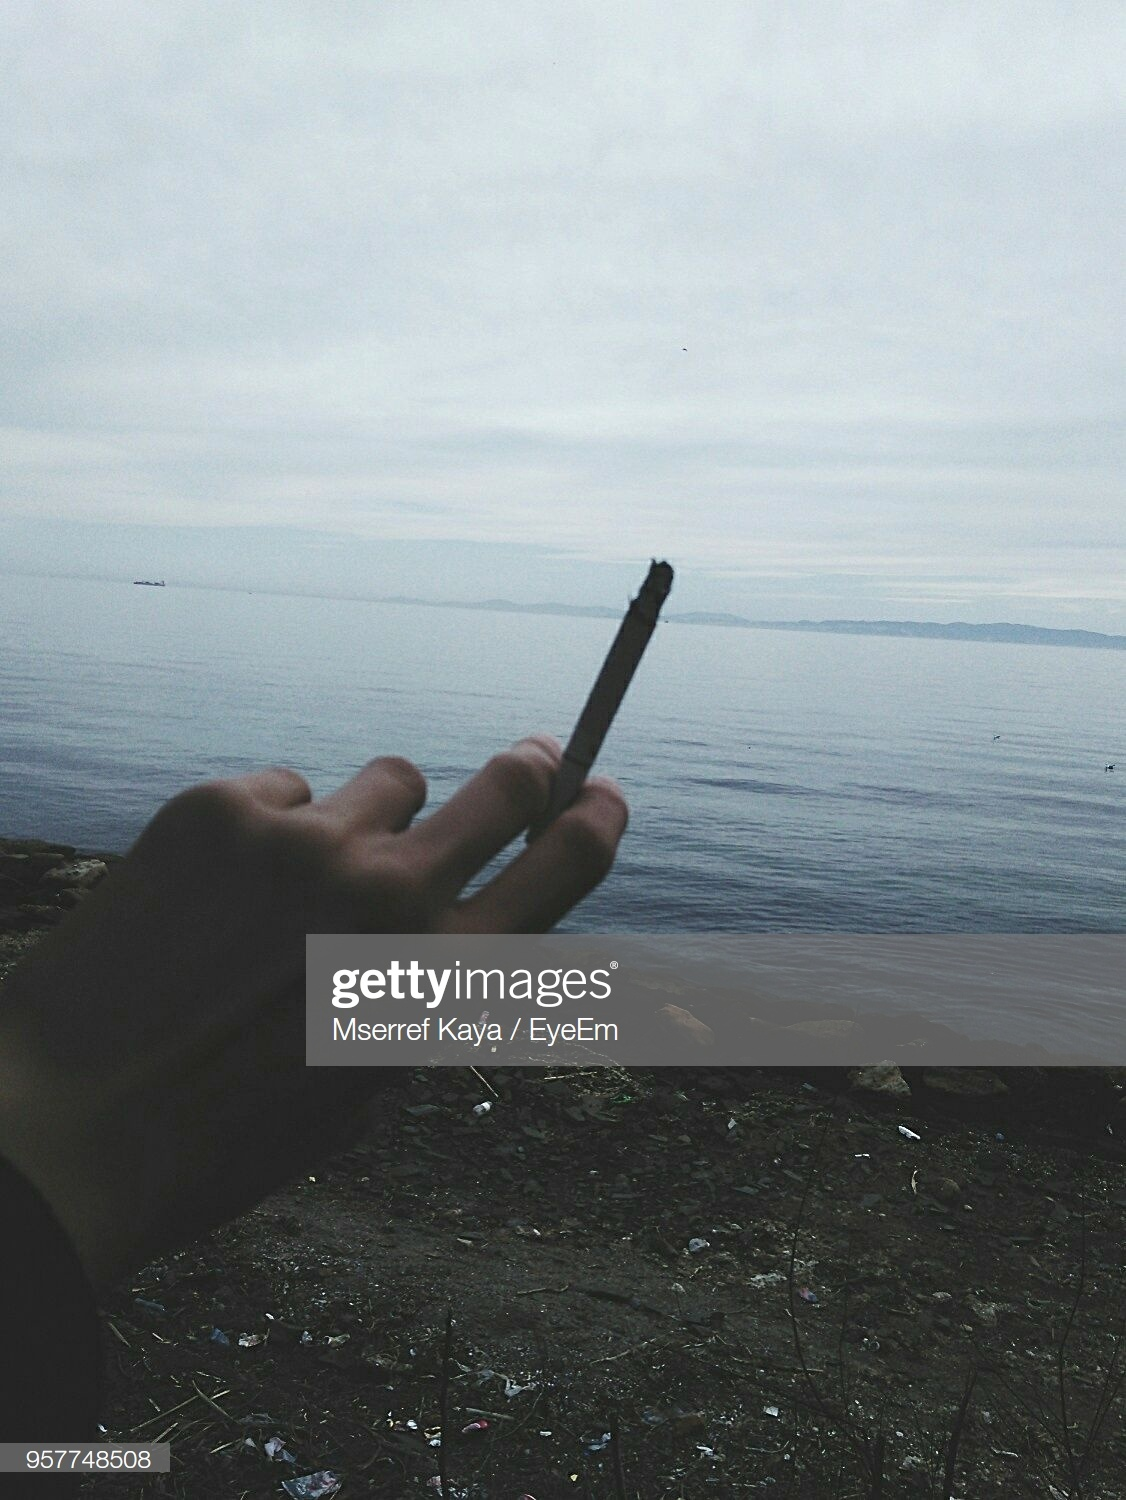sigaretta: (528, 542, 678, 833)
